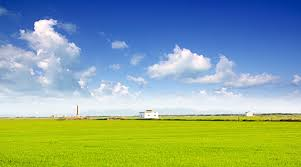field: (2, 117, 300, 166)
sky: (1, 3, 301, 115)
